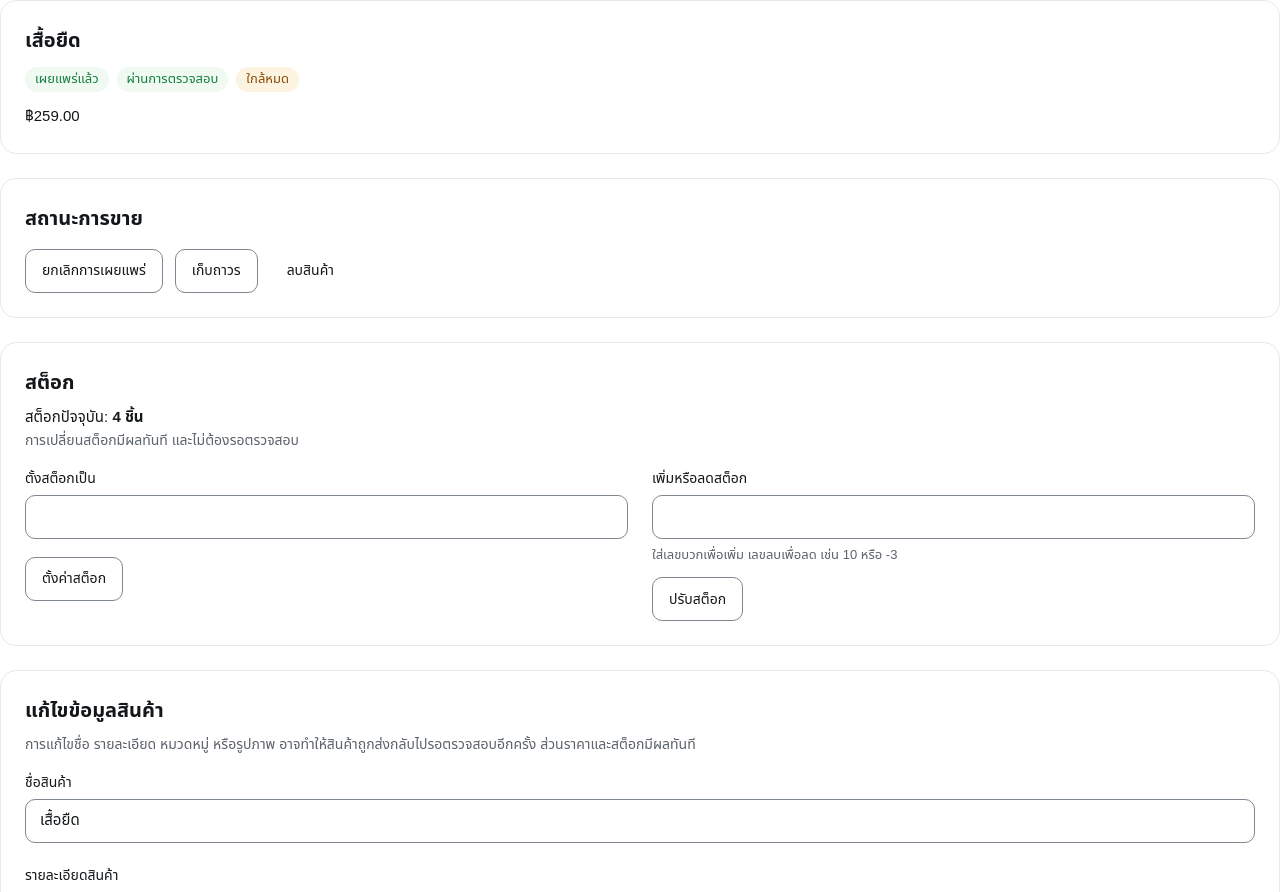
Test: edit product › sends only the changed field, then shows the saved confirmation
Replace the text in the field labelled "ชื่อสินค้า" with "ชื่อใหม่". click: [640, 821]
box: [25,799,1255,843]
(page scrolled)
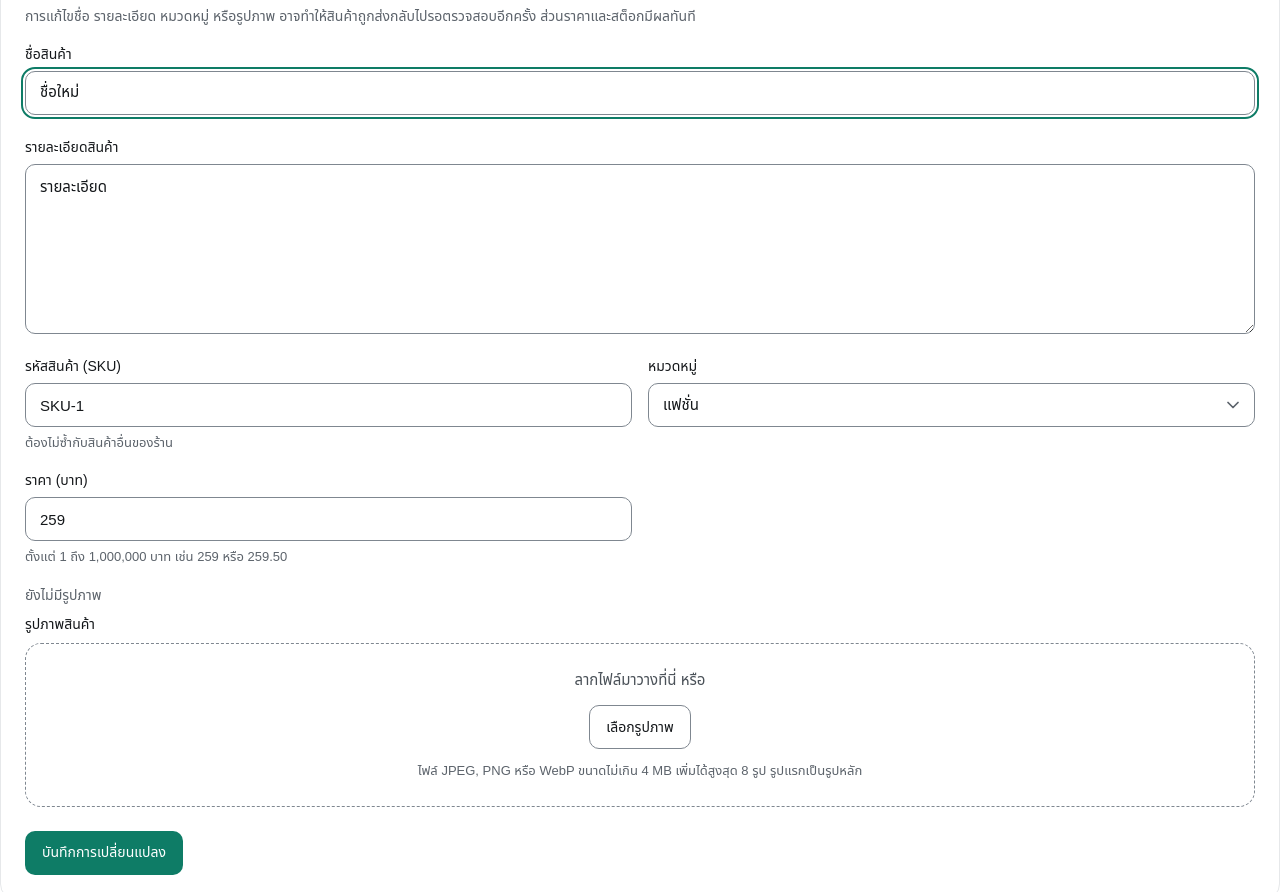
Click the button "บันทึกการเปลี่ยนแปลง". click: [104, 853]
box: [25,831,183,875]
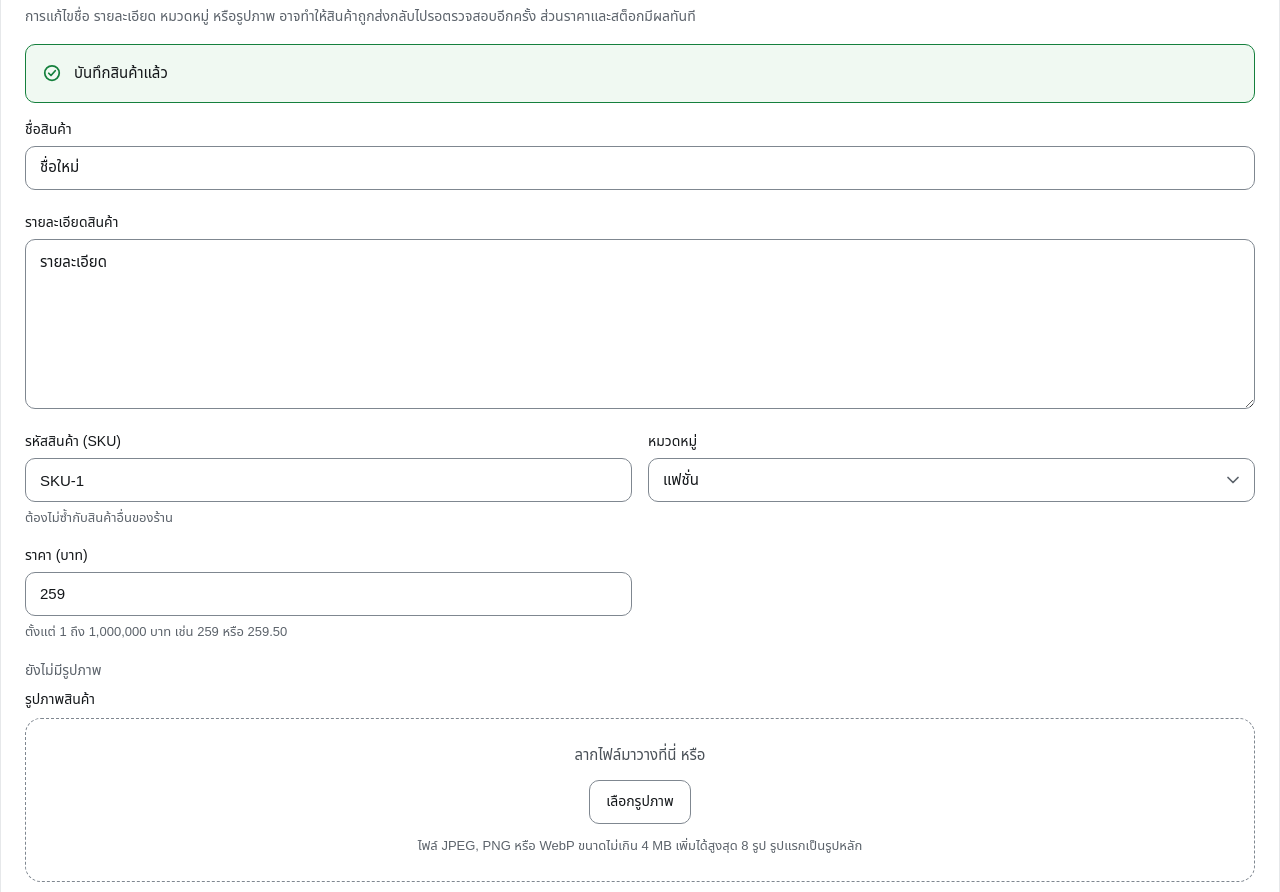
Result: the text "บันทึกสินค้าแล้ว" is shown at [74,64,168,81]
